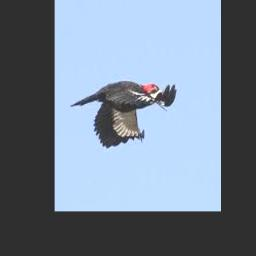Woodpecker: (70, 80, 176, 149)
